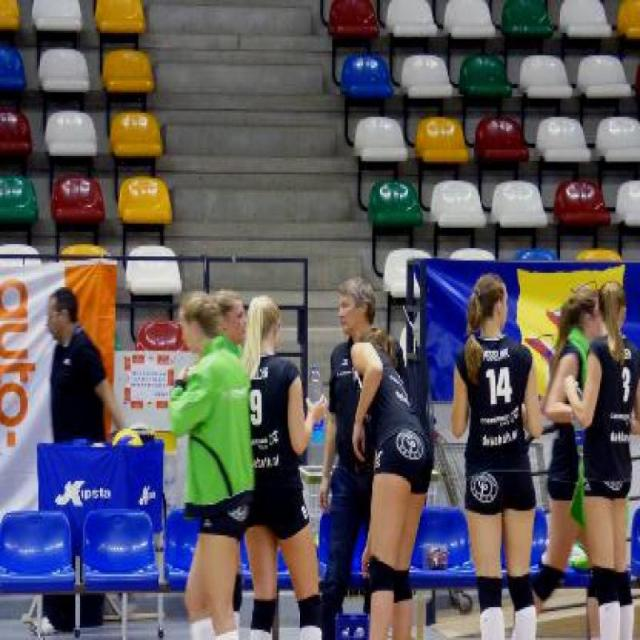volleyball: (110, 427, 142, 448)
